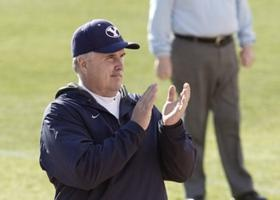person without safety: (32, 17, 198, 198)
